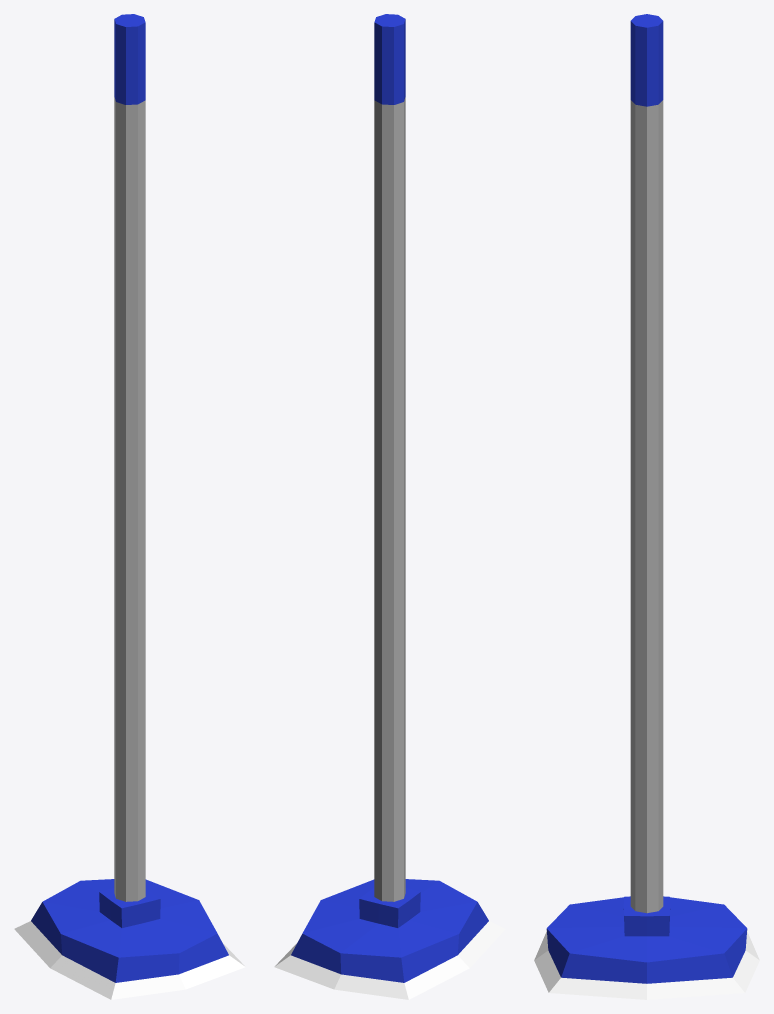
File: mop.fbx
3 views of the same model, side by side, from view 1: azimuth 30°, elevation 25°; view 2: azimuth 150°, elevation 25°; view 3: azimuth 270°, elevation 25° (orthographic).
Visible parts, largest first — view 1: Mop; view 2: Mop; view 3: Mop.
Boxes of the visible parts, left/top/right/bottom form: Mop: left=14, top=14, right=245, bottom=999; Mop: left=274, top=14, right=505, bottom=999; Mop: left=534, top=14, right=759, bottom=999.
Bounding box in the file's own units: 0.2294 × 0.2773 × 1.27.
